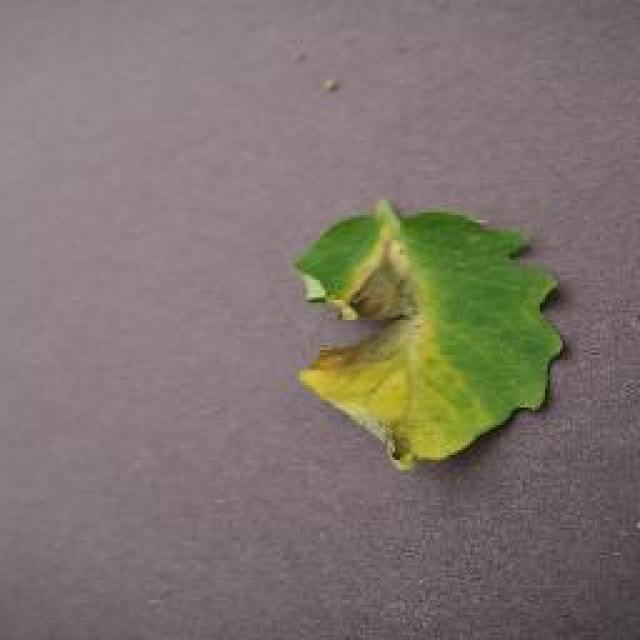Tomato Late Blight: (262, 138, 445, 462)
